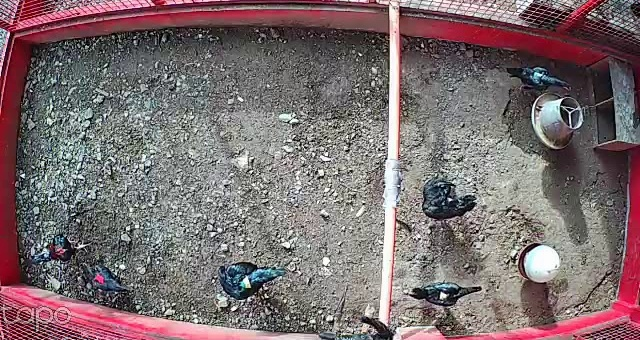Chicken: (211, 257, 290, 303), (504, 55, 577, 101), (416, 177, 478, 223), (409, 274, 487, 307), (75, 258, 133, 297), (321, 312, 400, 340)
Rooster: (29, 228, 95, 269)
Saddle_Color_Red: (91, 272, 105, 283)
Saddle_Color_Yellow: (438, 292, 446, 301)
Saddle_Color_YellowGreen: (239, 275, 250, 287)
